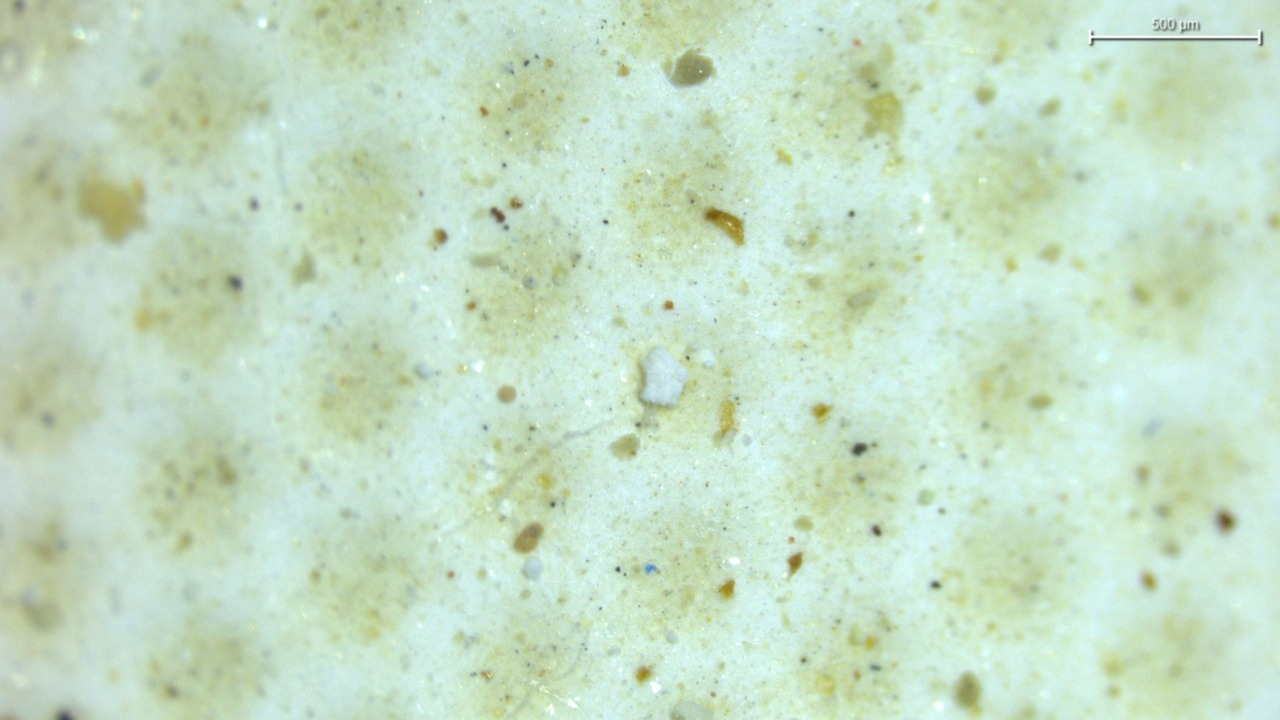microplastic_fragment: (641, 347, 688, 406)
